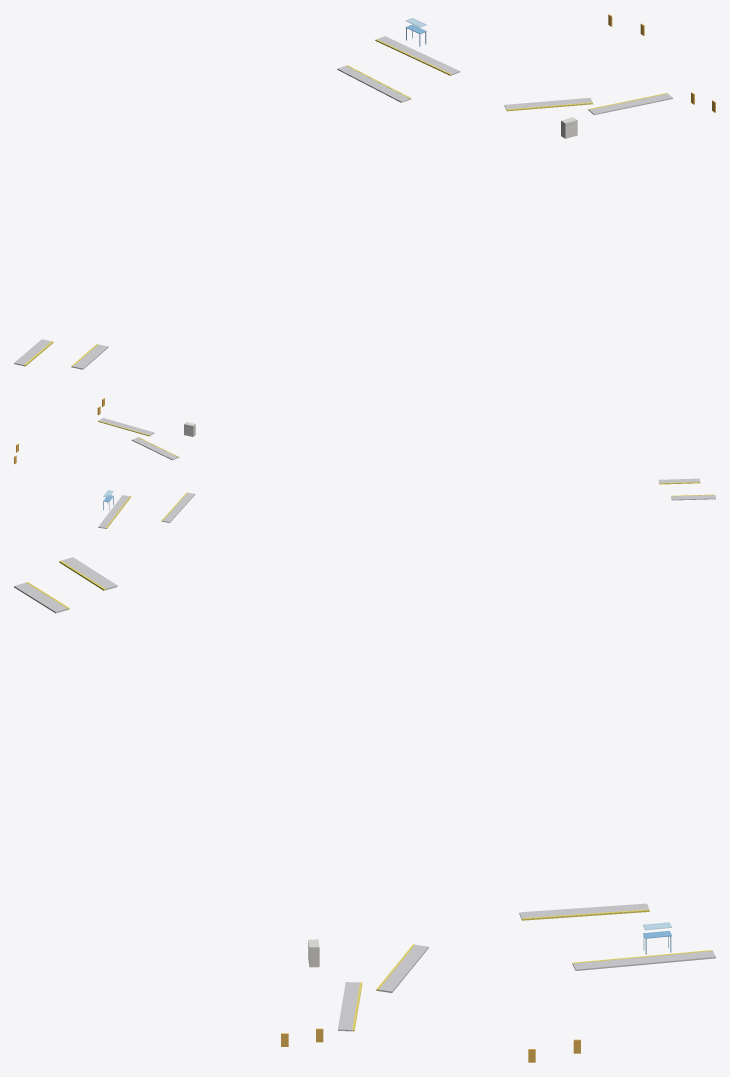
The model's file is 8589996-spiegel-spiegel.glb.
3 renders of one model, top to bottom at view 1: azimuth 30°, elevation 25°; view 2: azimuth 150°, elevation 25°; view 3: azimuth 270°, elevation 25°, orthographic. The views are drawn at different scales.
Visible parts, largest first — view 1: platform_body@0, boarding_edge@0; view 2: platform_body@0, boarding_edge@0; view 3: platform_body@0, boarding_edge@0.
Part boxes in pixels (x1,y1,x2,y2): platform_body@0: (14, 36, 672, 369); boarding_edge@0: (24, 39, 667, 367); platform_body@0: (98, 418, 715, 528); boarding_edge@0: (98, 420, 714, 528); platform_body@0: (14, 557, 715, 1031); boarding_edge@0: (26, 560, 712, 1031).
Bounding box in the file's own units: 191 × 6.65 × 112.
